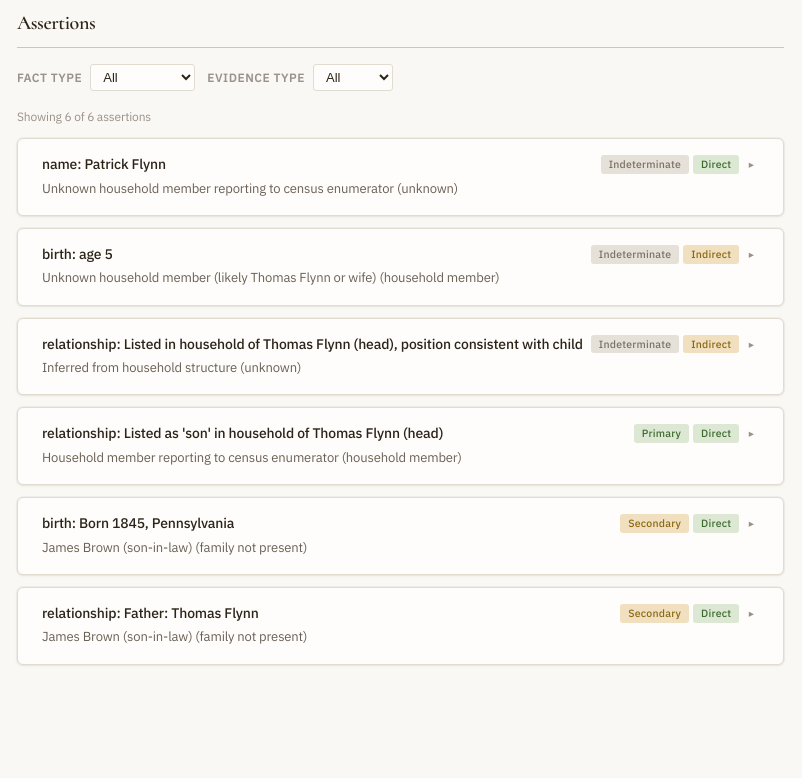
AssertionsSection — B1 persona row › renders the persona row when record_persona_id is present
Click the element showing "name: Patrick Flynn indeterminate direct ▸" at x=104, y=164, box [42,155,759,175]
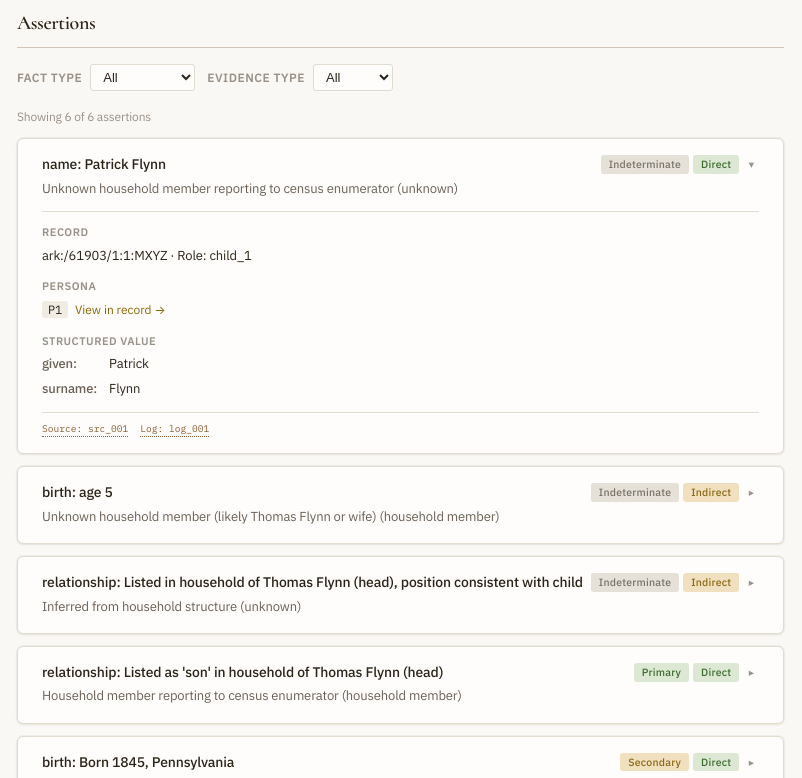
Now the text "Persona" is shown, box [42,279,96,293]
Now the text "P1" is shown, box [42,301,68,318]
